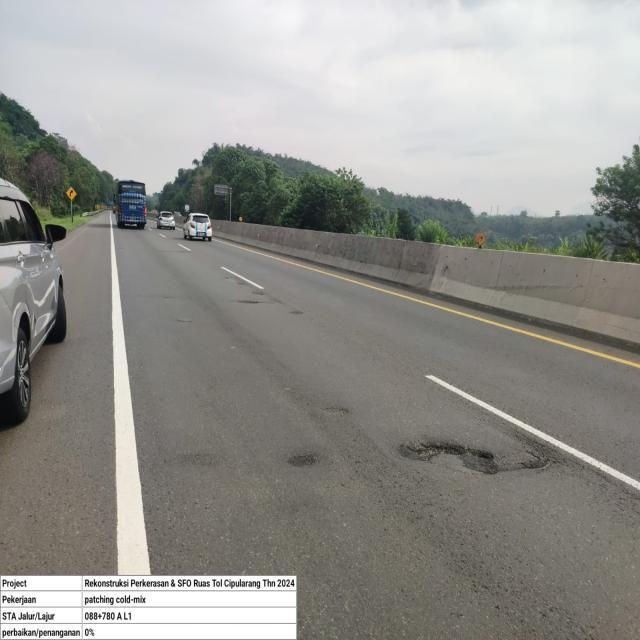Buraco: (392, 433, 570, 478), (284, 452, 320, 469), (234, 298, 269, 306), (286, 308, 307, 317), (249, 288, 269, 297)
